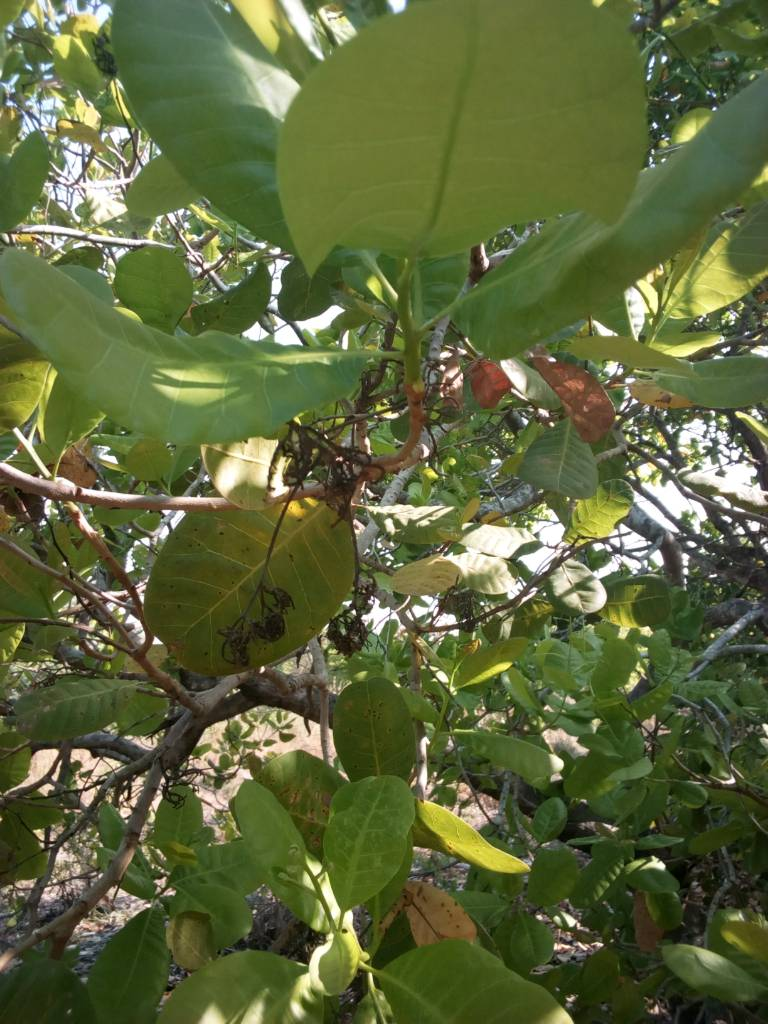Dessèchement des bourgeons: (272, 430, 383, 524), (218, 577, 304, 667), (329, 585, 382, 657), (440, 586, 483, 624)
